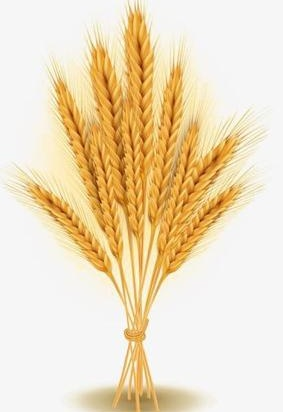wheat: (51, 67, 122, 269), (165, 117, 256, 265), (4, 167, 113, 281), (86, 25, 136, 245), (113, 5, 154, 247), (143, 52, 185, 239), (157, 110, 201, 249)
